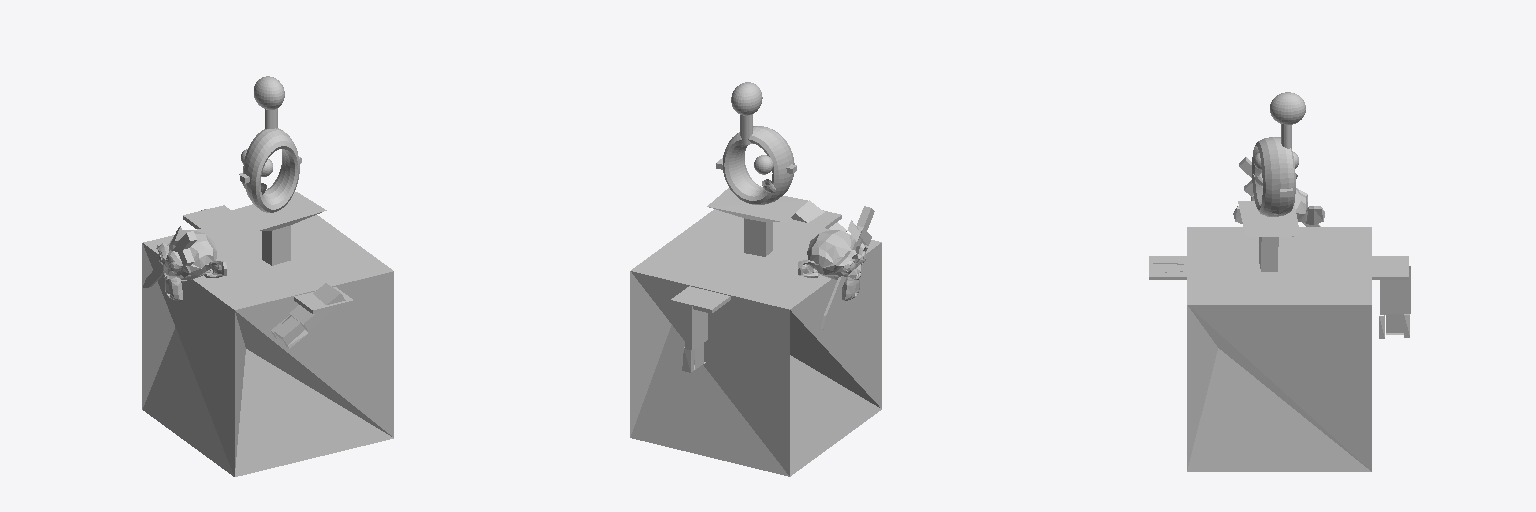
File: Robot_000041.obj
3 renders of one model, left to right at view 1: azimuth 30°, elevation 25°; view 2: azimuth 150°, elevation 25°; view 3: azimuth 270°, elevation 25°, orthographic.
Visible parts, largest first — view 1: Cube.001_Cube, Cube_Cube.001, Suzanne, Left_Hand.001_Cube.005, Cube.002_Cube.004, Cube.003_Cube.006, Sphere; view 2: Cube.001_Cube, Cube_Cube.001, Suzanne, Cube.002_Cube.004, Left_Hand_Cube.002, Cube.003_Cube.006, Sphere; view 3: Cube.001_Cube, Cube_Cube.001, Cube.002_Cube.004, Left_Hand_Cube.002, Sphere, Suzanne.
Boxes of the visible parts, box(x1,y1,x2,y2) form: Cube.001_Cube: box(142, 215, 393, 476); Cube_Cube.001: box(225, 128, 326, 265); Suzanne: box(156, 230, 226, 301); Left_Hand.001_Cube.005: box(271, 283, 345, 348); Cube.002_Cube.004: box(183, 205, 353, 313); Cube.003_Cube.006: box(143, 226, 196, 287); Sphere: box(254, 76, 284, 109); Cube.001_Cube: box(630, 209, 881, 476); Cube_Cube.001: box(707, 126, 807, 256); Suzanne: box(798, 230, 867, 300); Cube.002_Cube.004: box(670, 210, 841, 313); Left_Hand_Cube.002: box(682, 304, 707, 372); Cube.003_Cube.006: box(821, 206, 874, 329); Sphere: box(731, 82, 762, 115); Cube.001_Cube: box(1187, 227, 1371, 471); Cube_Cube.001: box(1238, 137, 1300, 271); Cube.002_Cube.004: box(1149, 256, 1408, 279); Left_Hand_Cube.002: box(1379, 266, 1410, 338); Sphere: box(1270, 92, 1305, 124); Suzanne: box(1233, 188, 1324, 224).
Bounding box in the file's own units: 2.3 × 4.09 × 2.83.